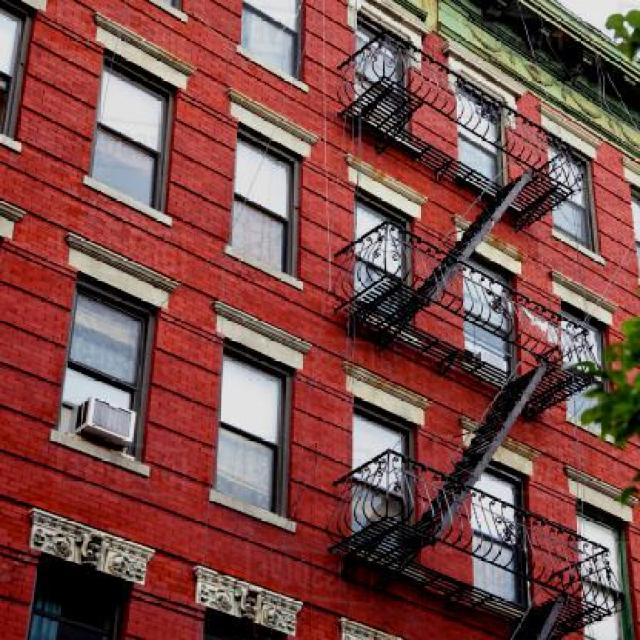stair: (358, 360, 579, 562), (374, 163, 558, 326), (457, 600, 608, 640)
